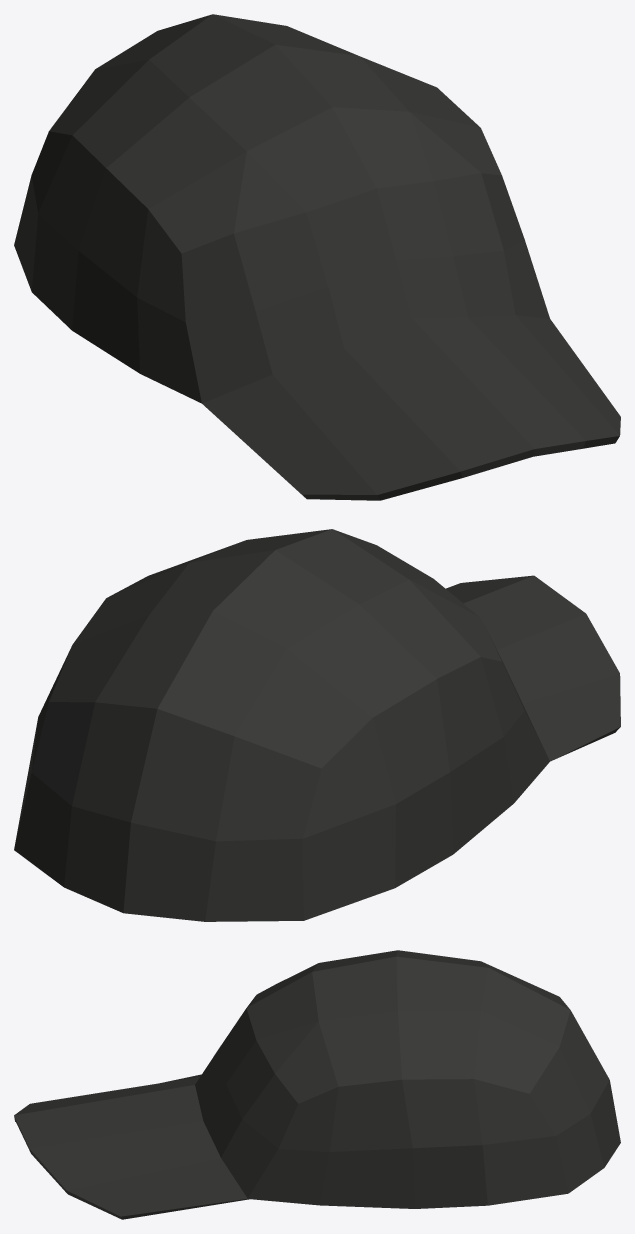
The model's file is CapV1.glb.
3 views of the same model, one above another, from view 1: azimuth 30°, elevation 25°; view 2: azimuth 150°, elevation 25°; view 3: azimuth 270°, elevation 25° (orthographic). The views are drawn at different scales.
Parts seen in each view (by area): view 1: CapV1; view 2: CapV1; view 3: CapV1.
Part boxes in pixels (box(x1,y1,x2,y2)): CapV1: box(14, 14, 620, 500); CapV1: box(14, 529, 620, 921); CapV1: box(14, 950, 620, 1219).
Bounding box in the file's own units: 0.1424 × 0.1003 × 0.2658.
Materials: 1 (1 with a texture image).
